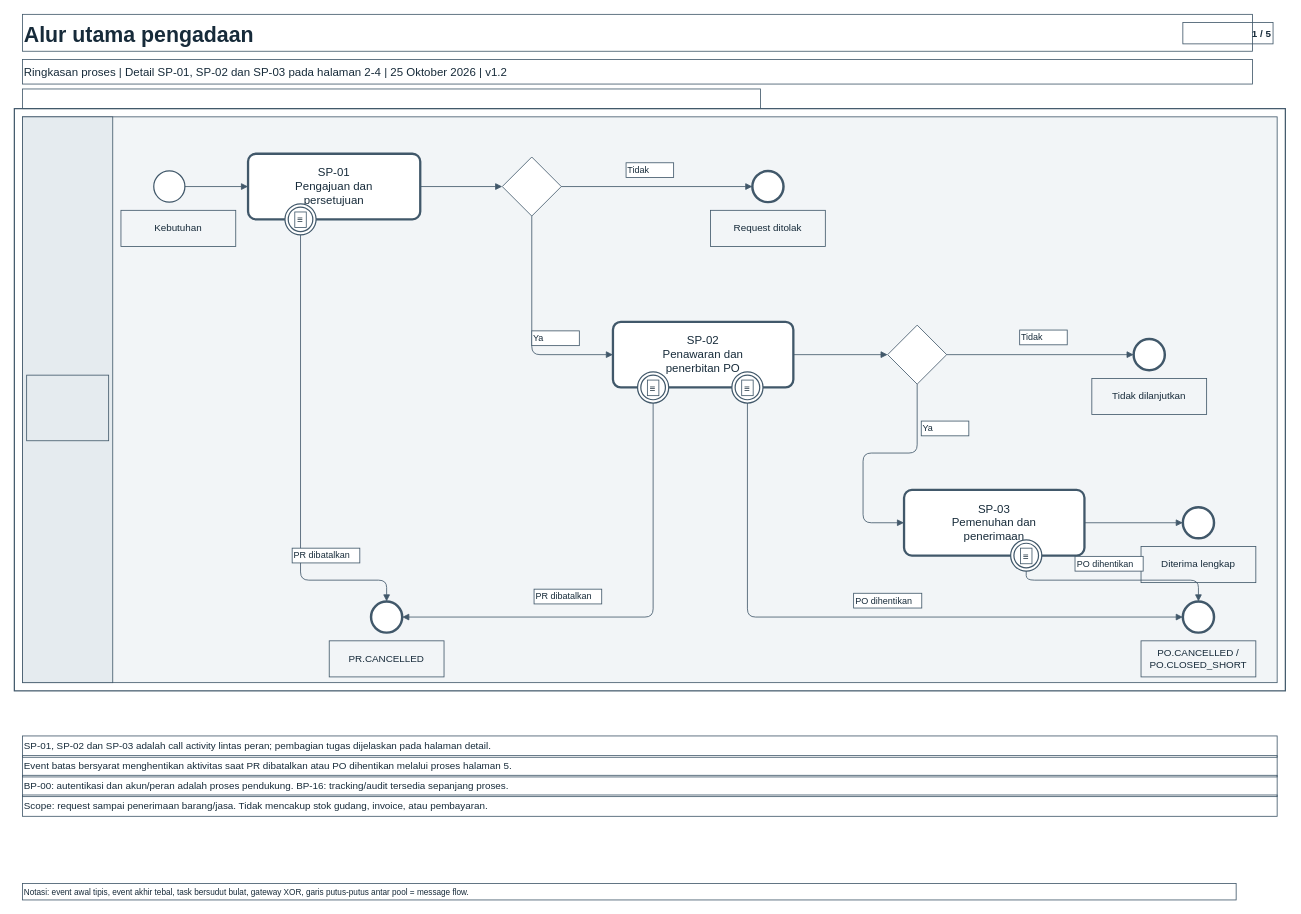
The diagram is 1301 pixels wide and 914 high, and some of its shapes have lost their labels. The centre of each missing label's shape, as x and y in pixels:
Disetujui?: point 531,186
PO terbit?: point 917,354
Pool: Organisasi: point 391,98
Proses pengadaan: point 67,407
